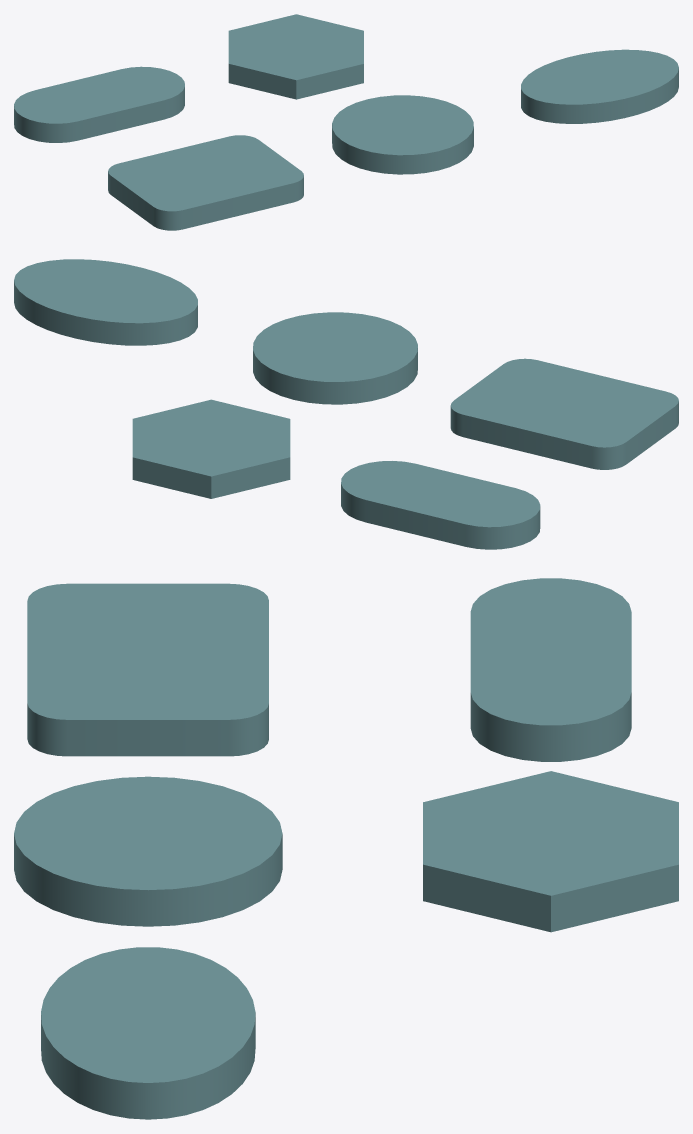
The model's file is profiles_basics.glb.
The picture shows the model from 3 angles, top to bottom: view 1: azimuth 30°, elevation 25°; view 2: azimuth 150°, elevation 25°; view 3: azimuth 270°, elevation 25°; orthographic projection. The views are drawn at different scales.
Parts seen in each view (by area): view 1: shape0; view 2: shape0; view 3: shape0.
Part boxes in pixels (x1,y1,x2,y2): shape0: [14, 14, 678, 230]; shape0: [14, 259, 678, 549]; shape0: [14, 578, 678, 1119].
Size of the model in its own units: 0.089 by 0.003 by 0.0495.
